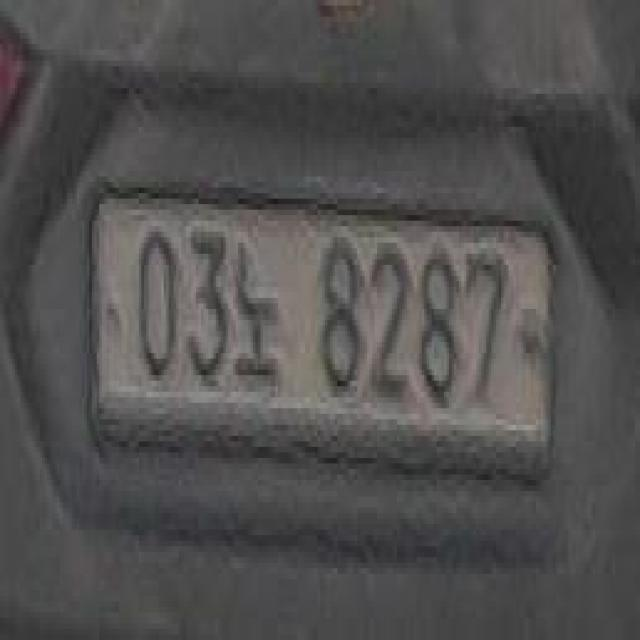illegal_plate: (88, 170, 562, 492)
